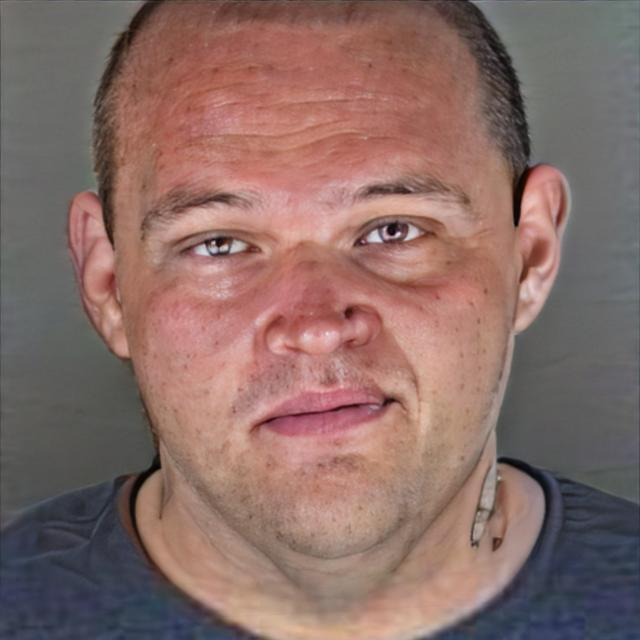neutral: (121, 0, 522, 563)
